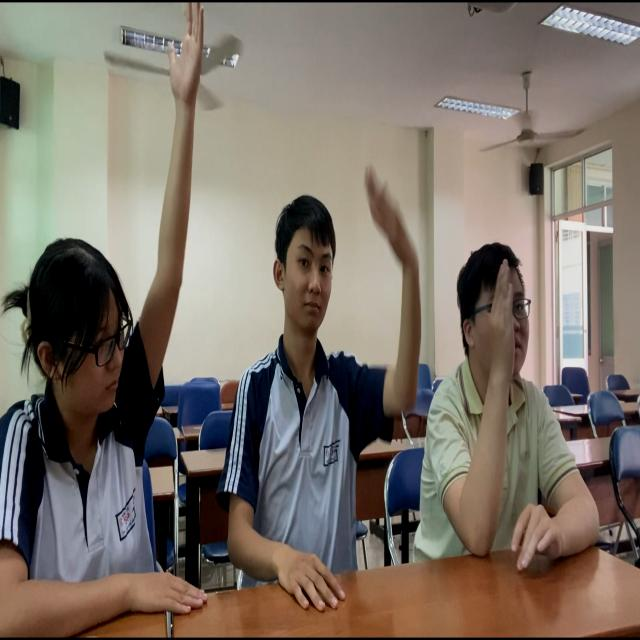raise_hand: (1, 1, 206, 612), (225, 157, 422, 585), (444, 244, 570, 579)
